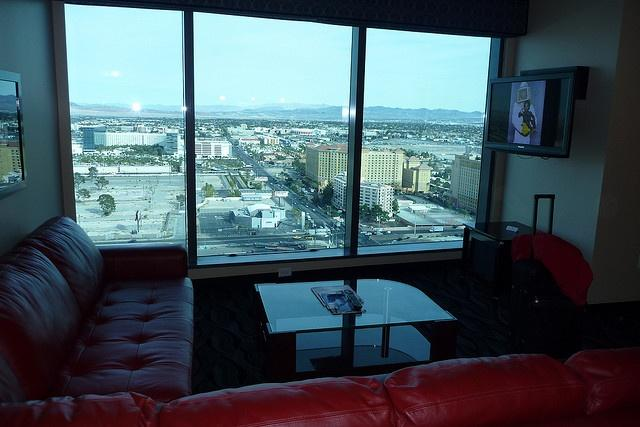AIO PC-Monitor-TV: (481, 71, 576, 159)
